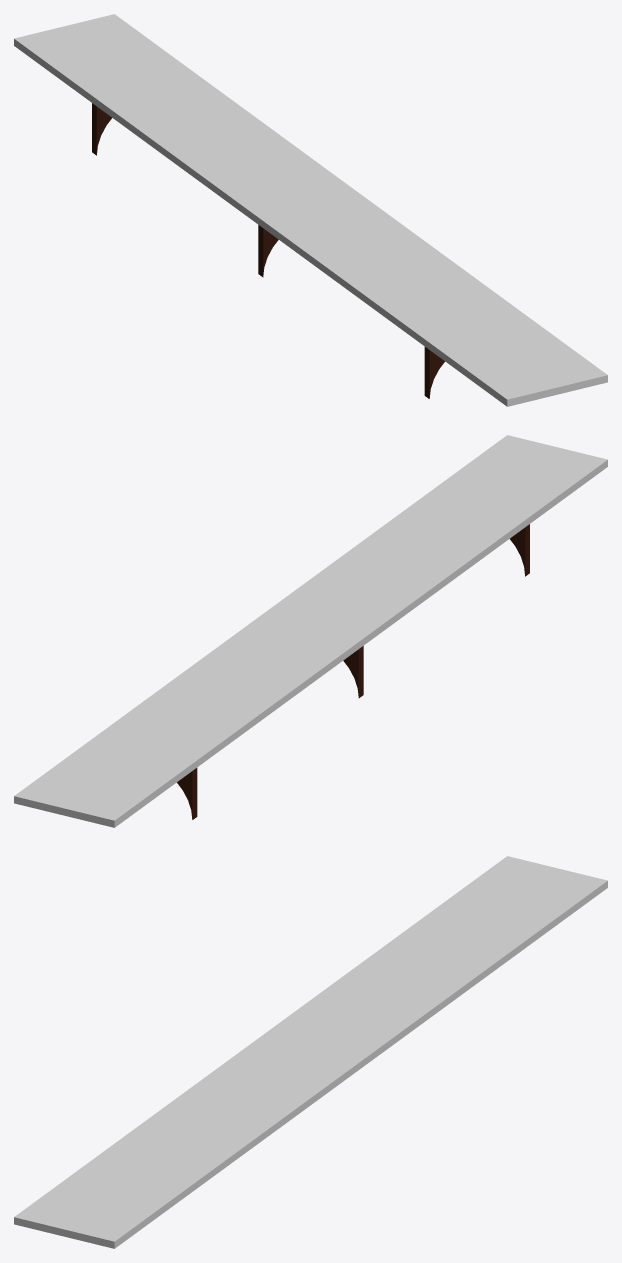
Rendered from Shelf.fbx.
3 views of the same model, one above another, from view 1: azimuth 30°, elevation 25°; view 2: azimuth 150°, elevation 25°; view 3: azimuth 330°, elevation 25° (orthographic).
Parts seen in each view (by area): view 1: Shelf; view 2: Shelf; view 3: Shelf.
Part boxes in pixels (left/top/right/bottom): Shelf: left=14, top=14, right=607, bottom=406; Shelf: left=14, top=435, right=607, bottom=827; Shelf: left=14, top=856, right=607, bottom=1248.
Size of the model in its own units: 1.13 by 0.609 by 9.6.
